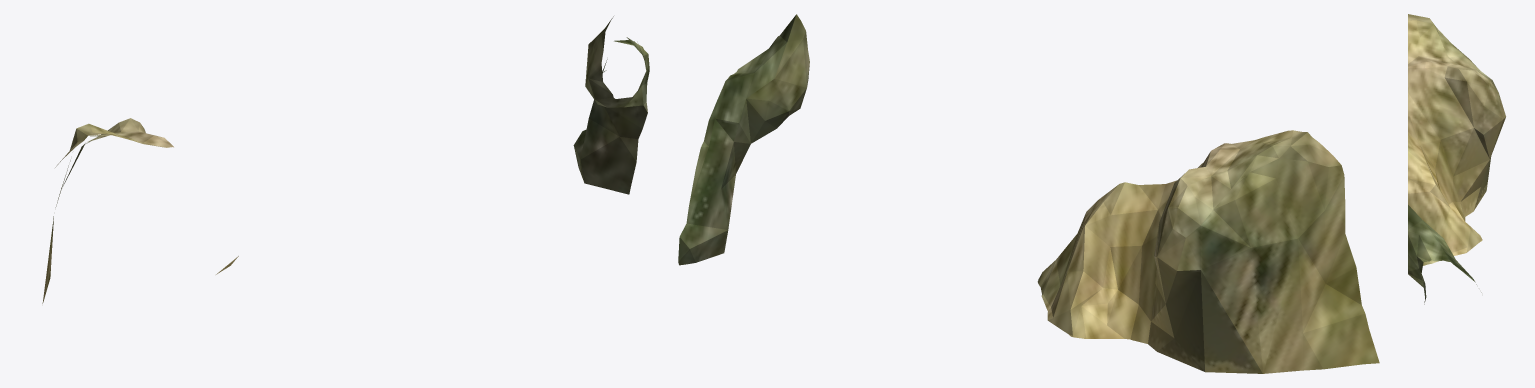
The picture shows the model from 3 angles, left to right: view 1: azimuth 30°, elevation 25°; view 2: azimuth 150°, elevation 25°; view 3: azimuth 270°, elevation 25°; orthographic projection. The views are drawn at different scales.
Bounding box in the file's own units: 5.21 × 1.7 × 1.09.
Materials: 1 (1 with a texture image).
